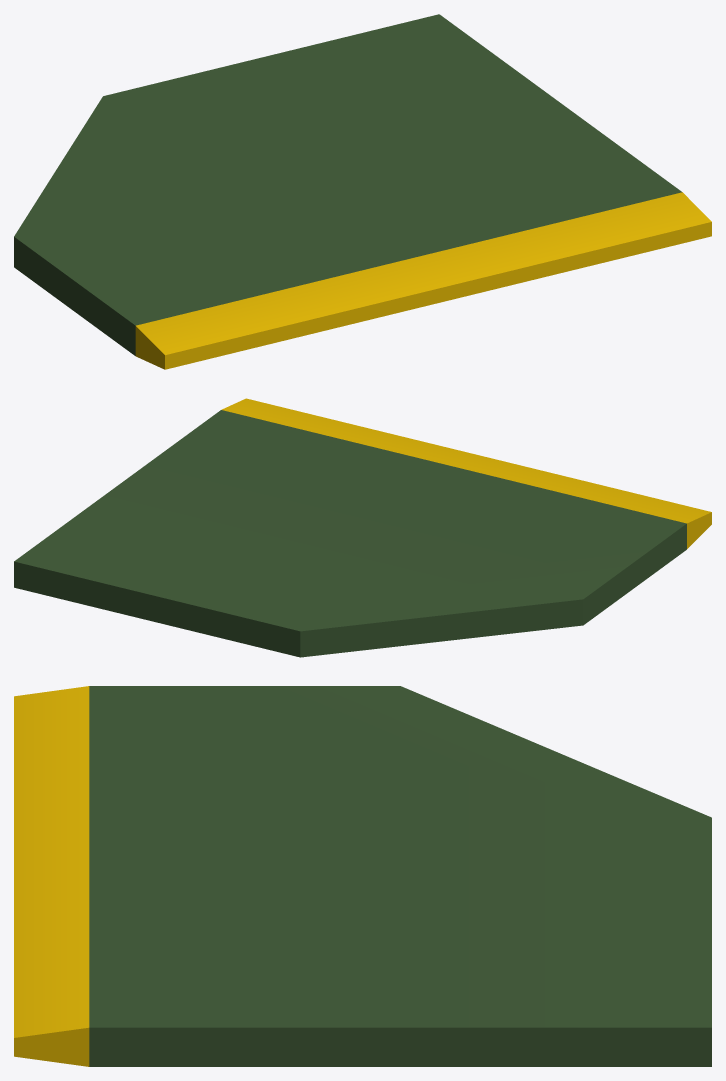
The model's file is Blank Chip.fbx.
The picture shows the model from 3 angles, top to bottom: view 1: azimuth 30°, elevation 25°; view 2: azimuth 150°, elevation 25°; view 3: azimuth 270°, elevation 25°; orthographic projection. The views are drawn at different scales.
Visible parts, largest first — view 1: Blank_Chip; view 2: Blank_Chip; view 3: Blank_Chip.
Part boxes in pixels (<box>): Blank_Chip: <box>14,14,711,369</box>; Blank_Chip: <box>14,398,711,657</box>; Blank_Chip: <box>14,686,711,1066</box>.
Size of the model in its own units: 0.7646 by 0.041 by 0.6601.
